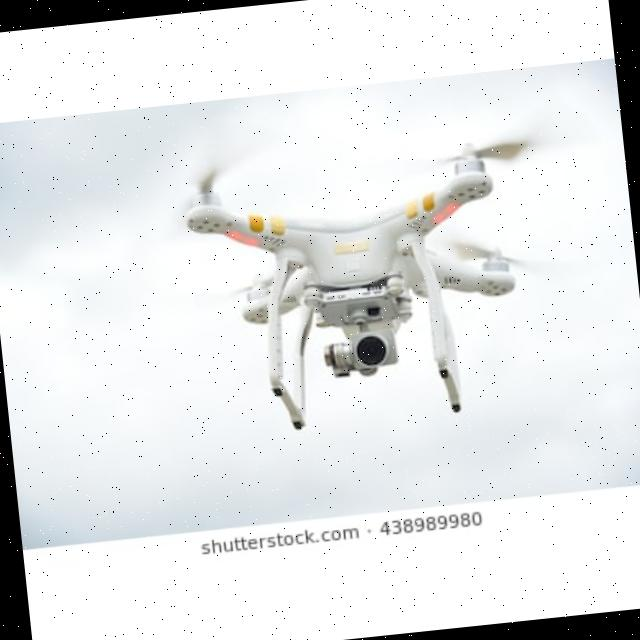Drones: (163, 140, 552, 442)
